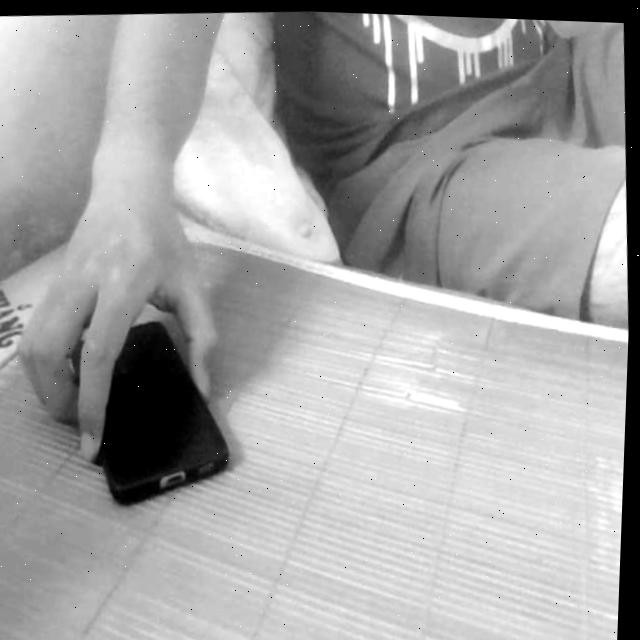phone: (60, 285, 254, 530)
